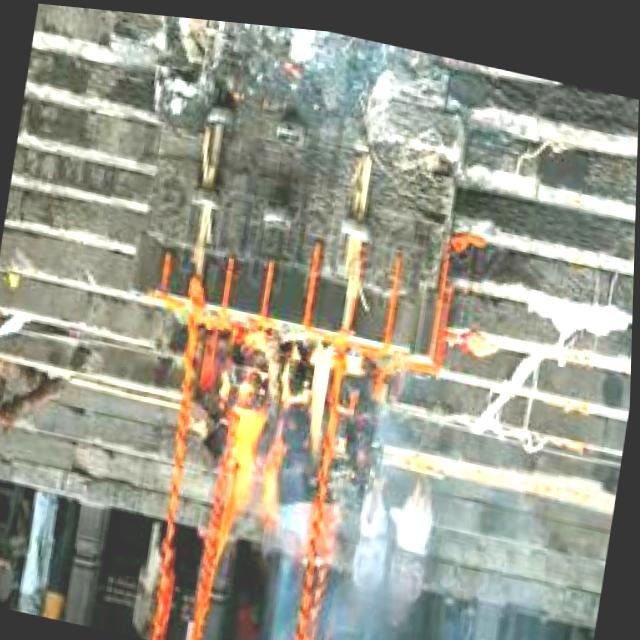helmet: (206, 318, 353, 548)
